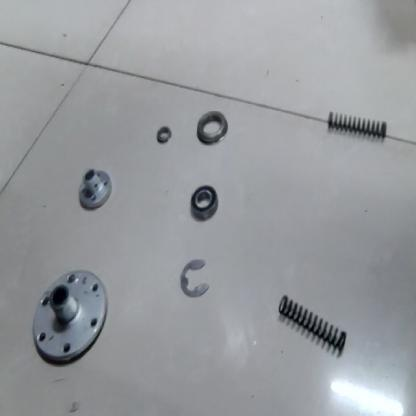FOD: (30, 268, 108, 370), (278, 292, 353, 357), (327, 104, 389, 144), (176, 256, 212, 303), (75, 168, 113, 212), (196, 108, 230, 148), (188, 184, 220, 224), (154, 124, 172, 147)
